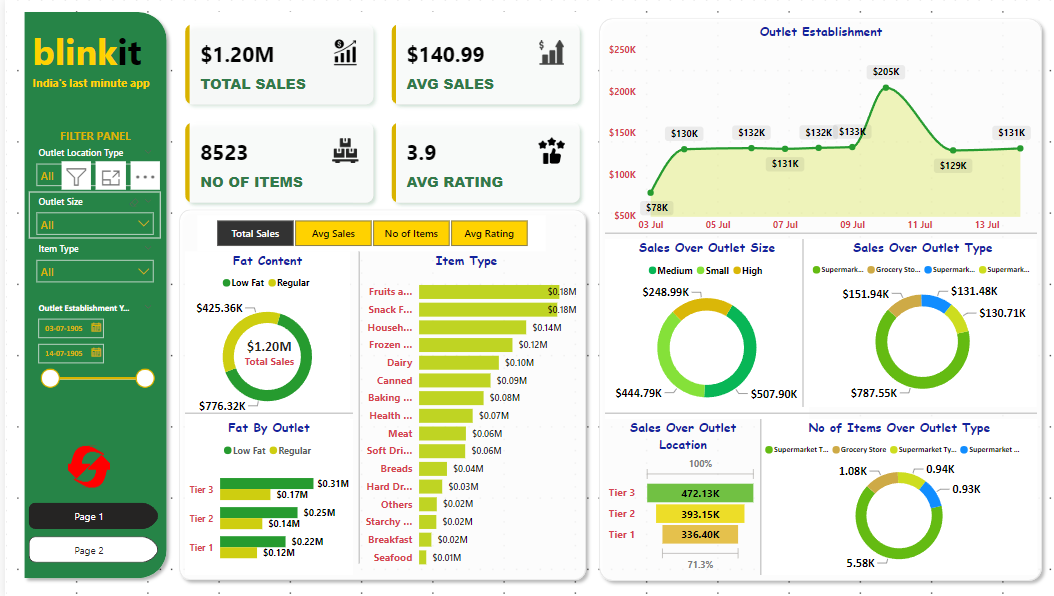

What the dashboard file says about the page in this screenshot:
{"tool":"powerbi","page":{"name":"Page 1","canvas":[1400,800],"ordinal":0},"visuals":[{"type":"shape","box":[16,9,208,773],"z":0},{"type":"textbox","box":[32,32,176,80],"z":1000},{"type":"textbox","box":[32,96,176,32],"z":2000},{"type":"cardVisual","fields":{"Data":["BlinkIT Grocery Data.Total Sales","BlinkIT Grocery Data.Avg Sales","BlinkIT Grocery Data.No of Items","BlinkIT Grocery Data.Avg Rating"]},"box":[224,16,560,272],"z":3000},{"type":"shape","box":[224,272,560,512],"z":4000},{"type":"donutChart","title":"Fat Content","fields":{"Y":["BlinkIT Grocery Data.Avg Rating"],"Category":["BlinkIT Grocery Data.Item Fat Content"]},"box":[240,336,220,230],"z":5000},{"type":"slicer","fields":{"Values":["Metrix.Metrix"]},"box":[256,288,464,48],"z":6000},{"type":"cardVisual","fields":{"Data":["BlinkIT Grocery Data.Avg Rating"]},"box":[288,432,128,80],"z":7000},{"type":"clusteredBarChart","title":" Fat By Outlet","fields":{"Y":["BlinkIT Grocery Data.Avg Rating"],"Category":["BlinkIT Grocery Data.Outlet Location Type"],"Series":["BlinkIT Grocery Data.Item Fat Content"]},"box":[240,560,224,208],"z":8000},{"type":"barChart","title":"Item Type","fields":{"Y":["BlinkIT Grocery Data.Avg Rating"],"Category":["BlinkIT Grocery Data.Item Type"]},"box":[464,336,304,432],"z":9000},{"type":"shape","box":[784,16,608,768],"z":10000},{"type":"lineChart","title":" Outlet Establishment","fields":{"Category":["BlinkIT Grocery Data.Outlet Establishment Year"],"Y":["BlinkIT Grocery Data.Total Sales"]},"box":[800,32,576,288],"z":11000},{"type":"donutChart","title":"Sales Over Outlet Size ","fields":{"Y":["BlinkIT Grocery Data.Total Sales"],"Category":["BlinkIT Grocery Data.Outlet Size"]},"box":[800,320,272,240],"z":12000},{"type":"slicer","fields":{"Values":["BlinkIT Grocery Data.Outlet Location Type"]},"box":[32,192,176,64],"z":13000},{"type":"slicer","fields":{"Values":["BlinkIT Grocery Data.Outlet Size"]},"box":[32,256,176,64],"z":14000},{"type":"slicer","fields":{"Values":["BlinkIT Grocery Data.Item Type"]},"box":[32,320,176,80],"z":15000},{"type":"textbox","box":[48,167,144,32],"z":16000},{"type":"shape","box":[240,528,224,48],"z":17000},{"type":"shape","box":[800,288,576,48],"z":18000},{"type":"shape","box":[800,528,576,48],"z":19000},{"type":"shape","box":[1040,320,48,224],"z":20000},{"type":"shape","box":[448,336,48,416],"z":21000},{"type":"donutChart","title":"Sales Over  Outlet Type","fields":{"Y":["BlinkIT Grocery Data.Total Sales"],"Category":["BlinkIT Grocery Data.Outlet Type"]},"box":[1072,320,304,224],"z":22000},{"type":"funnel","title":"Sales Over  Outlet Location ","fields":{"Y":["Sum(BlinkIT Grocery Data.Sales)"],"Category":["BlinkIT Grocery Data.Outlet Location Type"]},"box":[800,560,208,208],"z":23000},{"type":"donutChart","title":"No of Items Over  Outlet Type","fields":{"Category":["BlinkIT Grocery Data.Outlet Type"],"Y":["BlinkIT Grocery Data.No of Items"]},"box":[1008,560,368,208],"z":24000},{"type":"shape","box":[992,560,32,208],"z":25000},{"type":"pageNavigator","box":[32,672,176,80],"z":26000},{"type":"slicer","fields":{"Values":["BlinkIT Grocery Data.Outlet Establishment Year"]},"box":[32,400,176,128],"z":27000},{"type":"actionButton","box":[80,592,64,64],"z":28000}]}

Visuals, with their boxes in screenshot pixels (x1, y1, x2, y2), scaled from the page's 1400x800 canvas onto the 1054x596 screenshot:
shape: left=12, top=7, right=169, bottom=583
textbox: left=24, top=24, right=157, bottom=83
textbox: left=24, top=72, right=157, bottom=95
cardVisual - BlinkIT Grocery Data.Total Sales x BlinkIT Grocery Data.Avg Sales: left=169, top=12, right=590, bottom=215
shape: left=169, top=203, right=590, bottom=584
"Fat Content" donutChart: left=181, top=250, right=346, bottom=422
slicer - Metrix.Metrix: left=193, top=215, right=542, bottom=250
cardVisual - BlinkIT Grocery Data.Avg Rating: left=217, top=322, right=313, bottom=381
" Fat By Outlet" clusteredBarChart: left=181, top=417, right=349, bottom=572
"Item Type" barChart: left=349, top=250, right=578, bottom=572
shape: left=590, top=12, right=1048, bottom=584
" Outlet Establishment" lineChart: left=602, top=24, right=1036, bottom=238
"Sales Over Outlet Size " donutChart: left=602, top=238, right=807, bottom=417
slicer - BlinkIT Grocery Data.Outlet Location Type: left=24, top=143, right=157, bottom=191
slicer - BlinkIT Grocery Data.Outlet Size: left=24, top=191, right=157, bottom=238
slicer - BlinkIT Grocery Data.Item Type: left=24, top=238, right=157, bottom=298
textbox: left=36, top=124, right=145, bottom=148
shape: left=181, top=393, right=349, bottom=429
shape: left=602, top=215, right=1036, bottom=250
shape: left=602, top=393, right=1036, bottom=429
shape: left=783, top=238, right=819, bottom=405
shape: left=337, top=250, right=373, bottom=560
"Sales Over  Outlet Type" donutChart: left=807, top=238, right=1036, bottom=405
"Sales Over  Outlet Location " funnel: left=602, top=417, right=759, bottom=572
"No of Items Over  Outlet Type" donutChart: left=759, top=417, right=1036, bottom=572
shape: left=747, top=417, right=771, bottom=572
pageNavigator: left=24, top=501, right=157, bottom=560
slicer - BlinkIT Grocery Data.Outlet Establishment Year: left=24, top=298, right=157, bottom=393
actionButton: left=60, top=441, right=108, bottom=489
